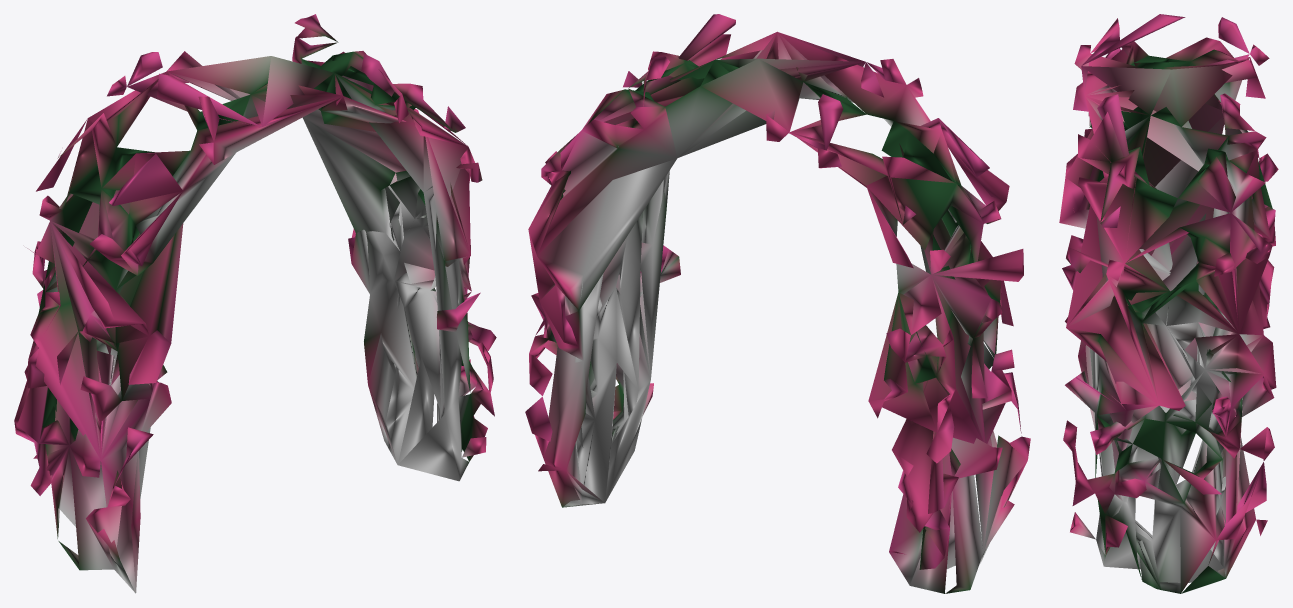
The model's file is gen3d-garden-arch-lod1.glb.
3 renders of one model, left to right at view 1: azimuth 30°, elevation 25°; view 2: azimuth 150°, elevation 25°; view 3: azimuth 270°, elevation 25°, orthographic. The views are drawn at different scales.
Visible parts, largest first — view 1: part_0; view 2: part_0; view 3: part_0.
Part boxes in pixels (left/top/right/bottom): part_0: left=14, top=14, right=496, bottom=593; part_0: left=525, top=14, right=1030, bottom=593; part_0: left=1059, top=14, right=1278, bottom=593.
Bounding box in the file's own units: 0.8893 × 0.9965 × 0.4302.
